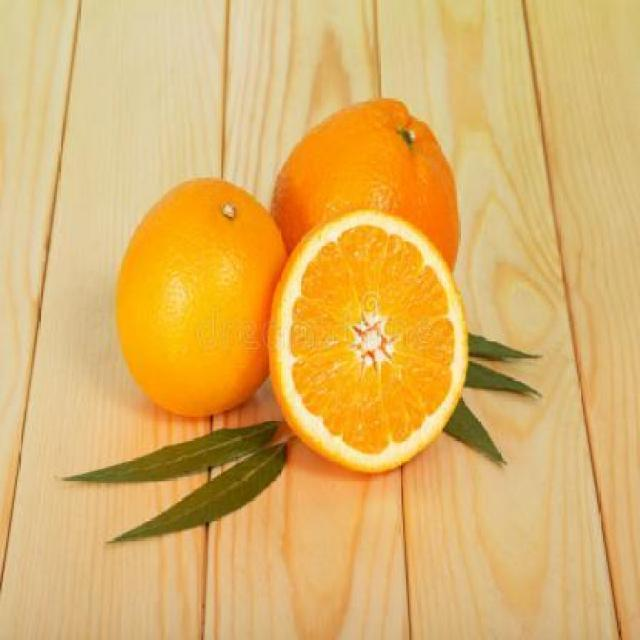Jeruk Sudah Matang: (274, 94, 460, 348), (116, 174, 292, 420)
